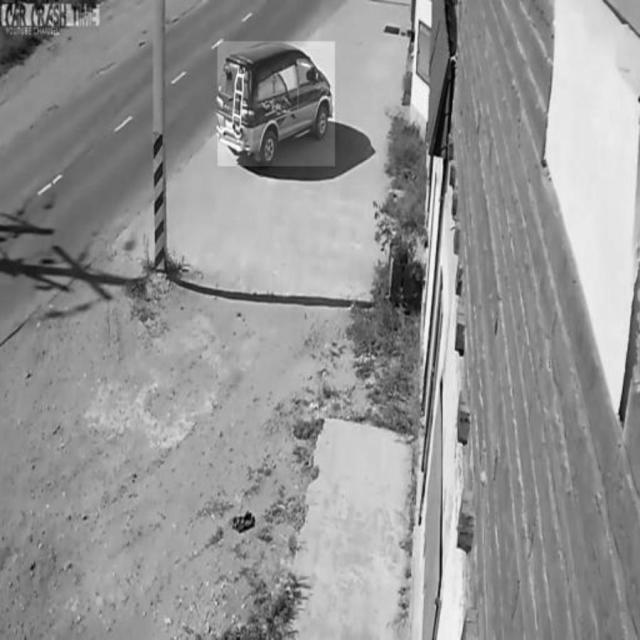vehicle: (217, 42, 335, 166)
